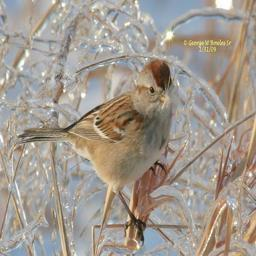Sparrow: (14, 55, 179, 246)
